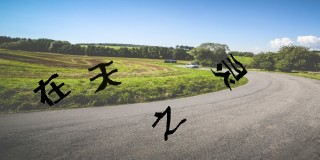之: (151, 103, 187, 142)
在: (32, 72, 72, 108)
天: (89, 60, 122, 93)
灵: (211, 53, 249, 92)
